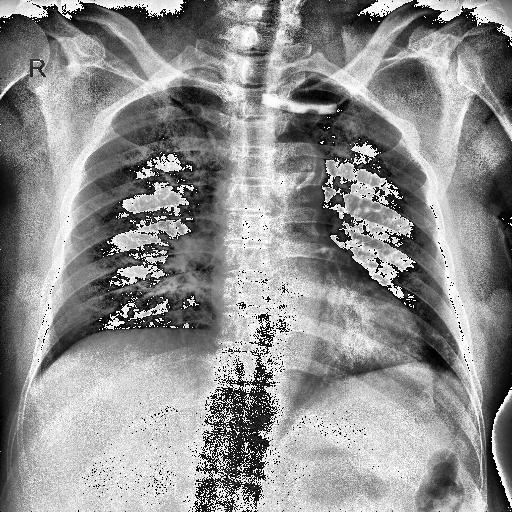0- Aortic enlargement: (262, 142, 325, 212), (270, 141, 322, 214), (262, 143, 326, 192)
3- Cardiomegaly: (215, 258, 423, 364), (212, 297, 431, 376)
5- ILD: (314, 104, 434, 280)
9- Other lesion: (260, 94, 336, 112)
